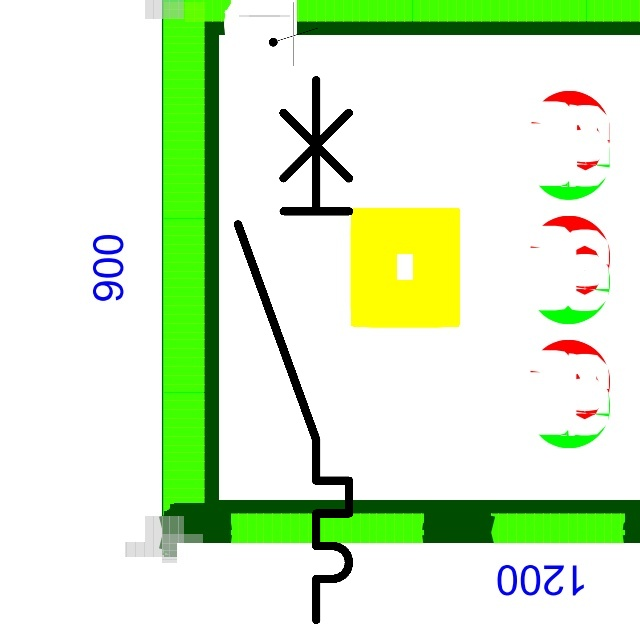interruptor_termomagnetico: (224, 66, 363, 634)
